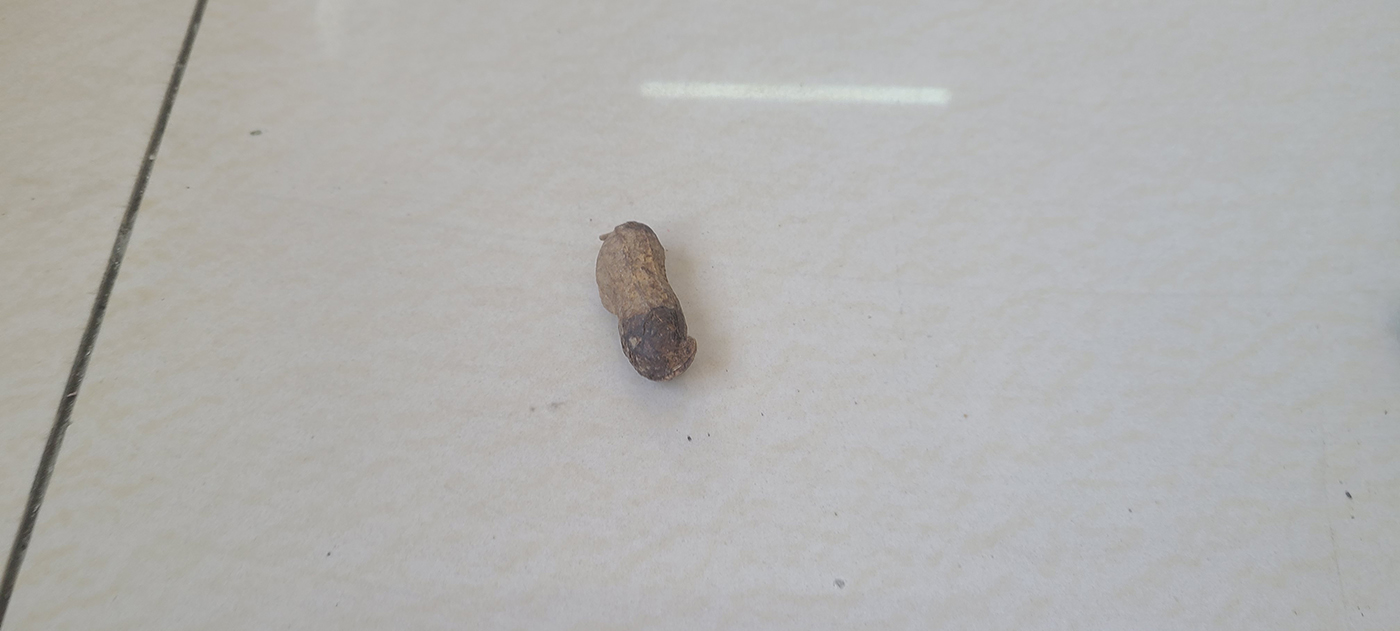l: (595, 220, 700, 382)
